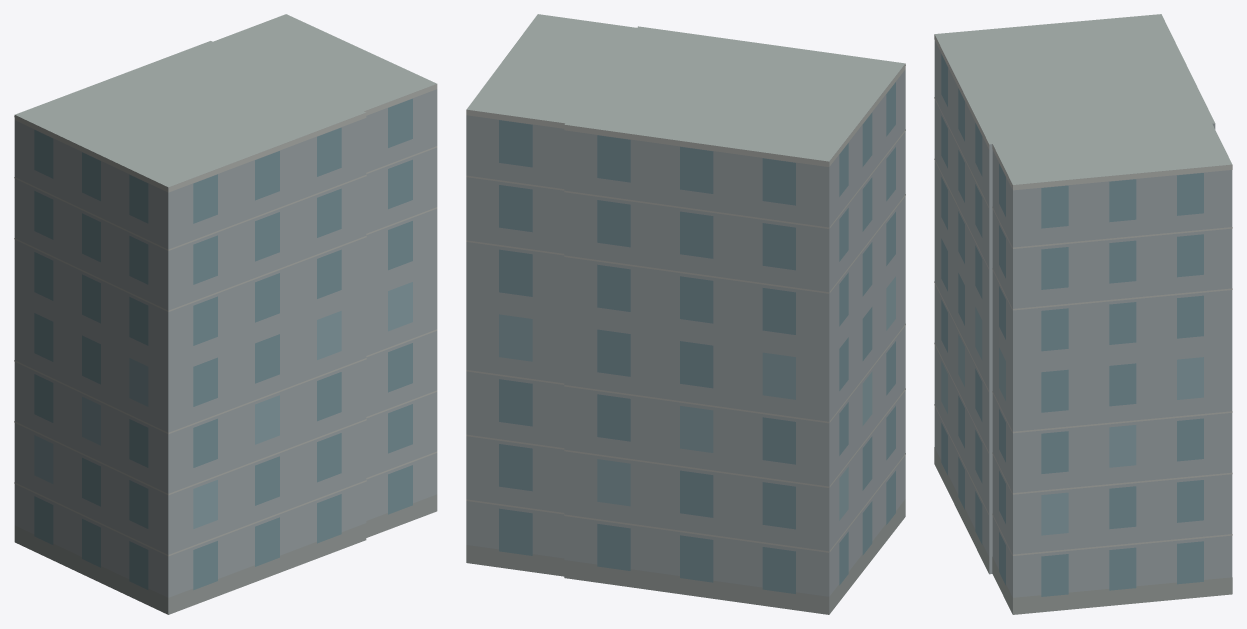
Rendered from survey-upis-32972990.glb.
3 views of the same model, side by side, from view 1: azimuth 30°, elevation 25°; view 2: azimuth 150°, elevation 25°; view 3: azimuth 270°, elevation 25° (orthographic). The views are drawn at different scales.
Visible parts, largest first — view 1: survey-upis-32972990.tmp; view 2: survey-upis-32972990.tmp; view 3: survey-upis-32972990.tmp.
Boxes of the visible parts, x1,y1,x2,y2 form: survey-upis-32972990.tmp: (14, 14, 437, 614); survey-upis-32972990.tmp: (466, 14, 905, 614); survey-upis-32972990.tmp: (934, 14, 1232, 614).
Size of the model in its own units: 16.84 by 19.7 by 12.4.
